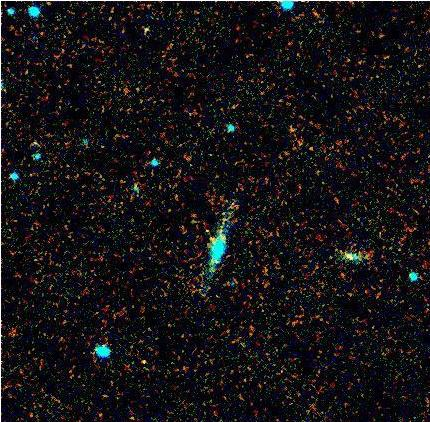star: (192, 212, 222, 242)
